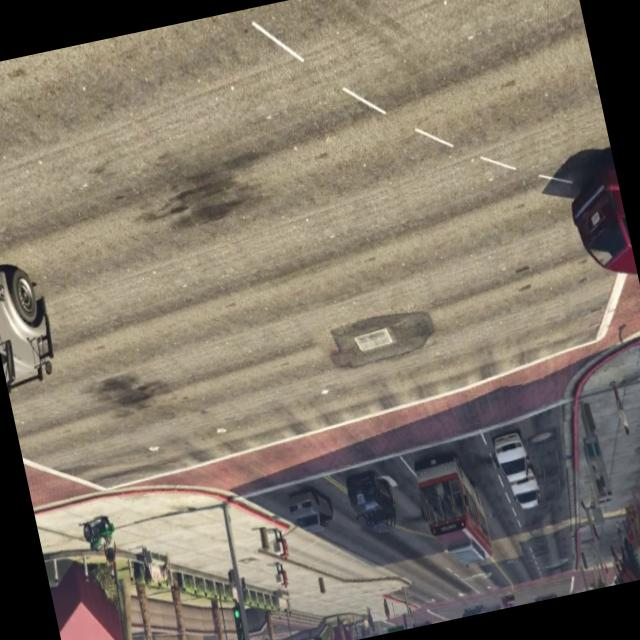Green-Signal: (221, 589, 253, 640), (382, 617, 408, 633), (304, 629, 327, 640)
